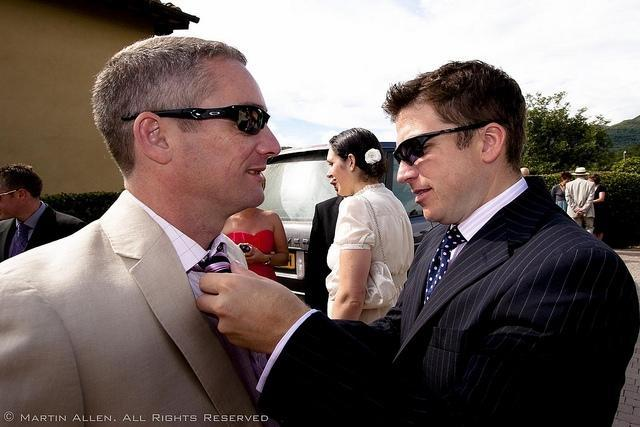car: (256, 140, 438, 302)
